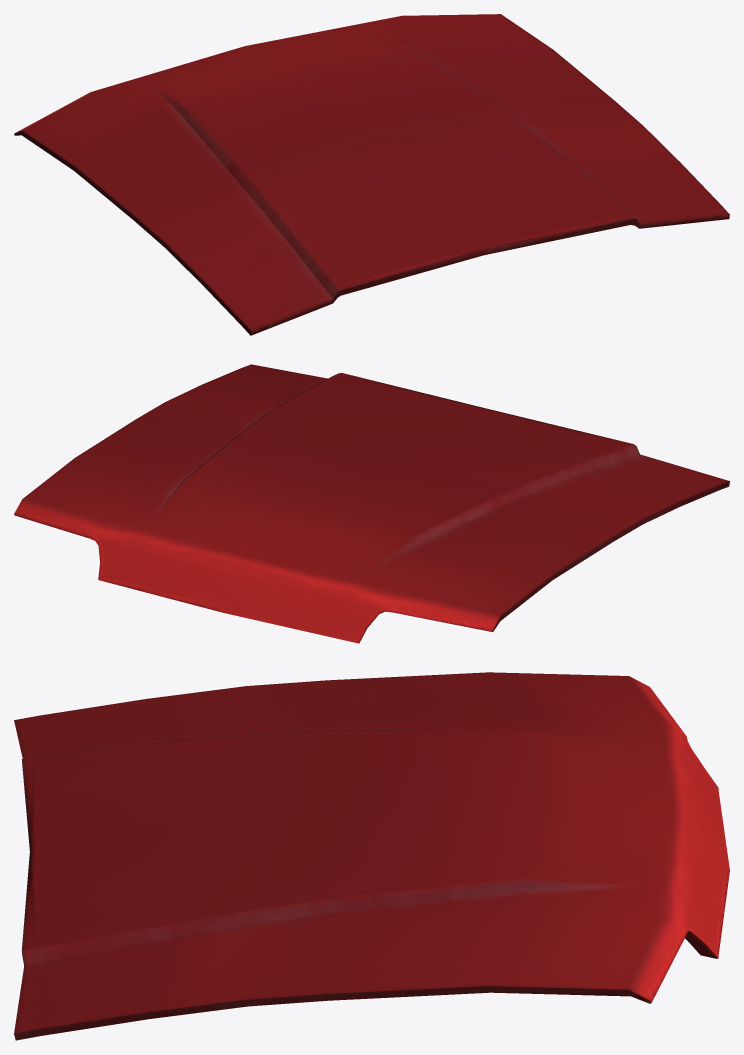
File: FordMustang90Hood_WorldItem.fbx
The picture shows the model from 3 angles, top to bottom: view 1: azimuth 30°, elevation 25°; view 2: azimuth 150°, elevation 25°; view 3: azimuth 270°, elevation 25°; orthographic projection. The views are drawn at different scales.
Parts seen in each view (by area): view 1: Hood_obj; view 2: Hood_obj; view 3: Hood_obj.
Part boxes in pixels (left/top/right/bottom): Hood_obj: left=14, top=14, right=729, bottom=335; Hood_obj: left=14, top=364, right=729, bottom=643; Hood_obj: left=14, top=672, right=729, bottom=1040.
Size of the model in its own units: 1.76 by 0.2177 by 1.7.
